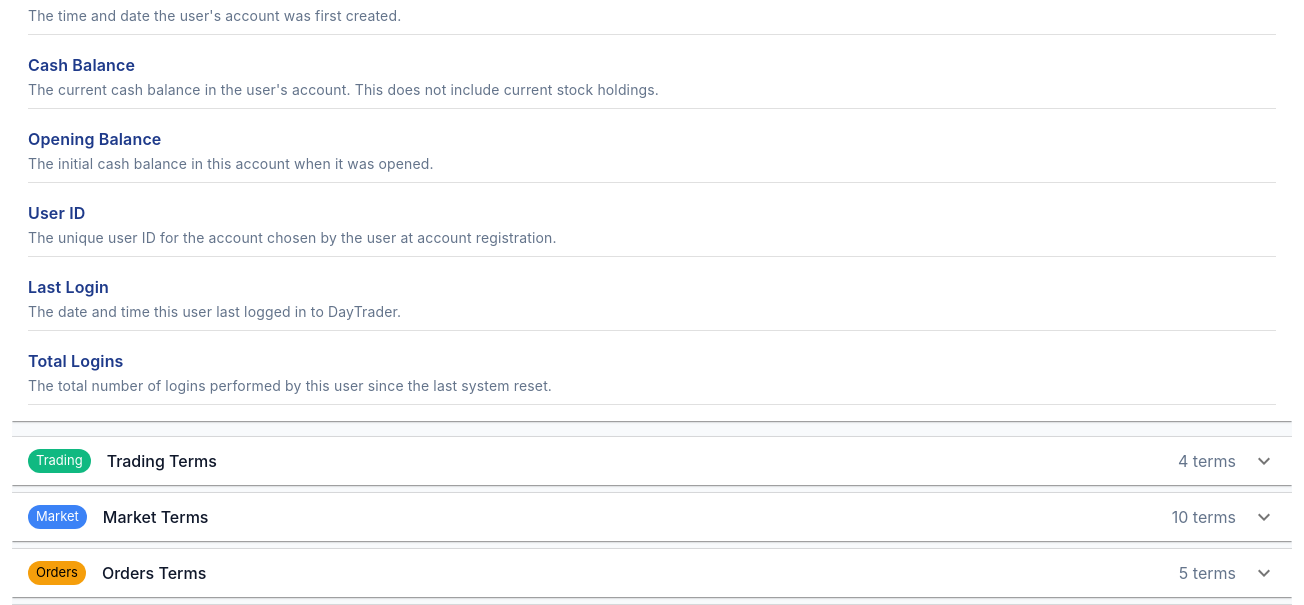
Scenario: GlossaryPage › expands accordion when clicked
(page scrolled)
Note: Click on Trading accordion to expand it
Click the button "Trading Trading Terms 4 terms".
click(59, 461)  # box [12, 437, 1292, 485]
(page scrolled)
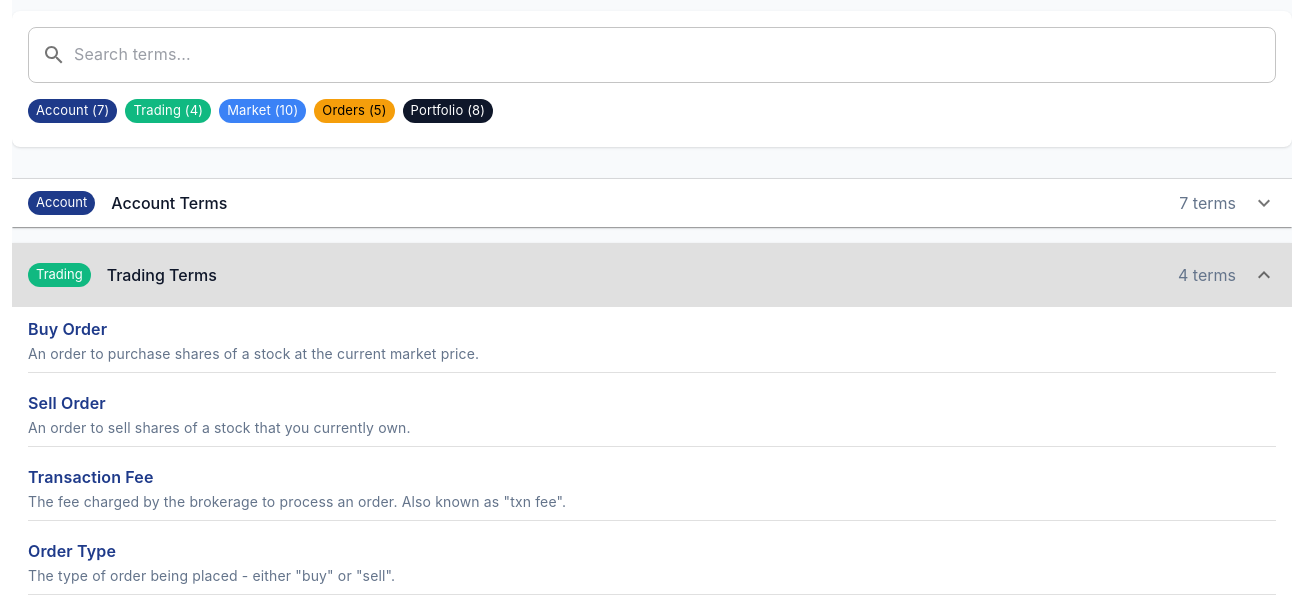
Expected: the heading "Buy Order" is shown, [28, 319, 107, 339]
Expected: the heading "Sell Order" is shown, [28, 393, 106, 413]
